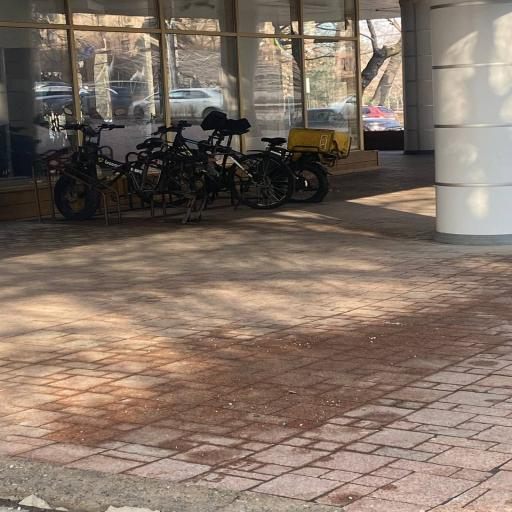bag: (47, 114, 227, 234), (130, 108, 303, 218)
elevator: (0, 0, 370, 187)
shelf: (0, 151, 511, 512)
